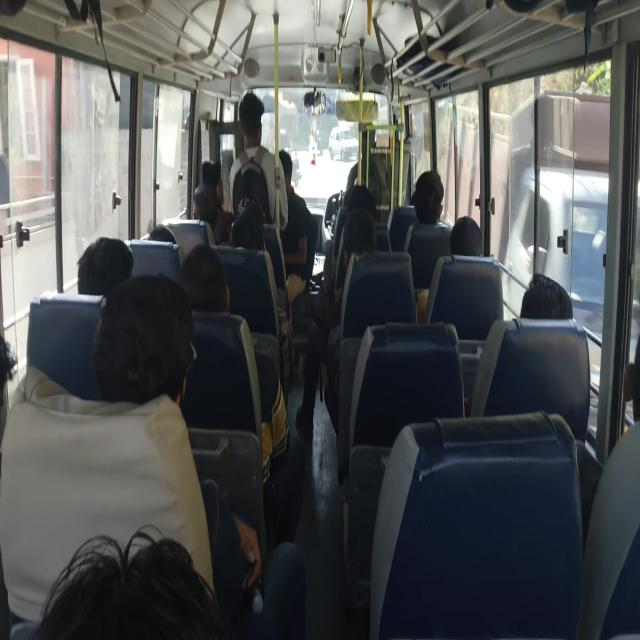person: (92, 272, 263, 610), (177, 243, 290, 478), (32, 525, 223, 639), (295, 207, 376, 438), (464, 272, 574, 416), (229, 91, 288, 228), (416, 215, 483, 322), (278, 148, 316, 303), (178, 243, 230, 313), (76, 236, 134, 296), (201, 159, 233, 242), (520, 272, 573, 320), (410, 169, 445, 225), (229, 202, 266, 250), (449, 216, 483, 256)
